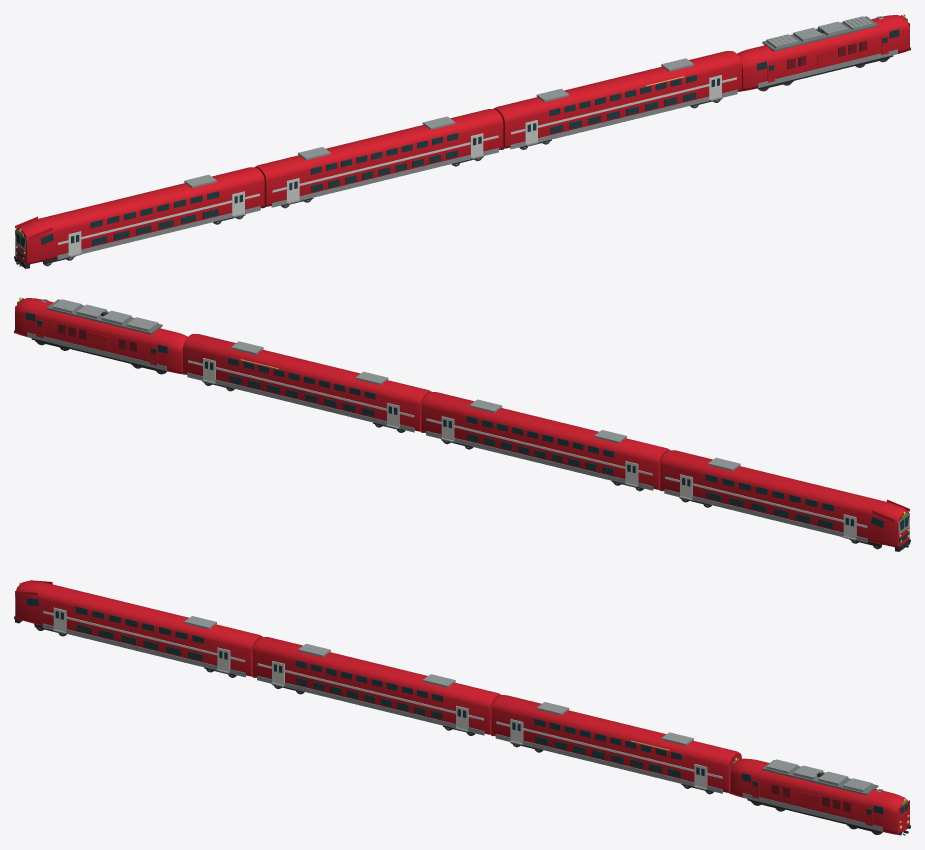
The model's file is db-regional-express-blender.glb.
The picture shows the model from 3 angles, top to bottom: view 1: azimuth 30°, elevation 25°; view 2: azimuth 150°, elevation 25°; view 3: azimuth 330°, elevation 25°; orthographic projection.
Visible parts, largest first — view 1: driving_trailer_double_deck_body.001, second_class_double_deck_body.001, mixed_class_double_deck_body.001, br245_lofted_body.001, second_class_lower_skirt_-1.001, mixed_class_lower_skirt_-1.001, driving_trailer_lower_skirt_-1.001, br245_lower_grey_band_-1.001, second_class_white_belt_-1.001, mixed_class_white_belt_-1.001, driving_trailer_white_belt_-1.001; view 2: driving_trailer_double_deck_body.001, second_class_double_deck_body.001, mixed_class_double_deck_body.001, br245_lofted_body.001, second_class_lower_skirt_1.001, mixed_class_lower_skirt_1.001, driving_trailer_lower_skirt_1.001, br245_lower_grey_band_1.001, second_class_white_belt_1.001, mixed_class_white_belt_1.001, driving_trailer_white_belt_1.001; view 3: driving_trailer_double_deck_body.001, mixed_class_double_deck_body.001, second_class_double_deck_body.001, br245_lofted_body.001, second_class_lower_skirt_-1.001, mixed_class_lower_skirt_-1.001, driving_trailer_lower_skirt_-1.001, br245_lower_grey_band_-1.001, mixed_class_white_belt_-1.001, second_class_white_belt_-1.001, driving_trailer_white_belt_-1.001.
Part boxes in pixels (left/top/right/bottom): driving_trailer_double_deck_body.001: left=15, top=167, right=264, bottom=264; second_class_double_deck_body.001: left=255, top=109, right=503, bottom=206; mixed_class_double_deck_body.001: left=493, top=51, right=741, bottom=148; br245_lofted_body.001: left=737, top=15, right=909, bottom=91; second_class_lower_skirt_-1.001: left=271, top=148, right=498, bottom=207; mixed_class_lower_skirt_-1.001: left=510, top=89, right=737, bottom=149; driving_trailer_lower_skirt_-1.001: left=57, top=206, right=260, bottom=259; br245_lower_grey_band_-1.001: left=758, top=49, right=897, bottom=87; second_class_white_belt_-1.001: left=272, top=135, right=498, bottom=192; mixed_class_white_belt_-1.001: left=510, top=77, right=736, bottom=134; driving_trailer_white_belt_-1.001: left=57, top=193, right=259, bottom=244; driving_trailer_double_deck_body.001: left=660, top=450, right=909, bottom=547; second_class_double_deck_body.001: left=421, top=392, right=669, bottom=489; mixed_class_double_deck_body.001: left=183, top=334, right=431, bottom=431; br245_lofted_body.001: left=15, top=298, right=187, bottom=374; second_class_lower_skirt_1.001: left=426, top=431, right=653, bottom=490; mixed_class_lower_skirt_1.001: left=187, top=372, right=414, bottom=432; driving_trailer_lower_skirt_1.001: left=664, top=489, right=867, bottom=542; br245_lower_grey_band_1.001: left=27, top=332, right=166, bottom=370; second_class_white_belt_1.001: left=426, top=418, right=652, bottom=475; mixed_class_white_belt_1.001: left=188, top=360, right=414, bottom=417; driving_trailer_white_belt_1.001: left=665, top=476, right=867, bottom=527; driving_trailer_double_deck_body.001: left=15, top=581, right=262, bottom=676; mixed_class_double_deck_body.001: left=491, top=695, right=741, bottom=792; second_class_double_deck_body.001: left=253, top=637, right=500, bottom=734; br245_lofted_body.001: left=730, top=758, right=909, bottom=834; second_class_lower_skirt_-1.001: left=257, top=676, right=484, bottom=735; mixed_class_lower_skirt_-1.001: left=495, top=734, right=722, bottom=793; driving_trailer_lower_skirt_-1.001: left=42, top=623, right=245, bottom=677; br245_lower_grey_band_-1.001: left=742, top=793, right=882, bottom=831; mixed_class_white_belt_-1.001: left=496, top=721, right=722, bottom=778; second_class_white_belt_-1.001: left=257, top=663, right=483, bottom=720; driving_trailer_white_belt_-1.001: left=43, top=611, right=245, bottom=662.
Size of the model in its own units: 101 by 4.83 by 3.35.
